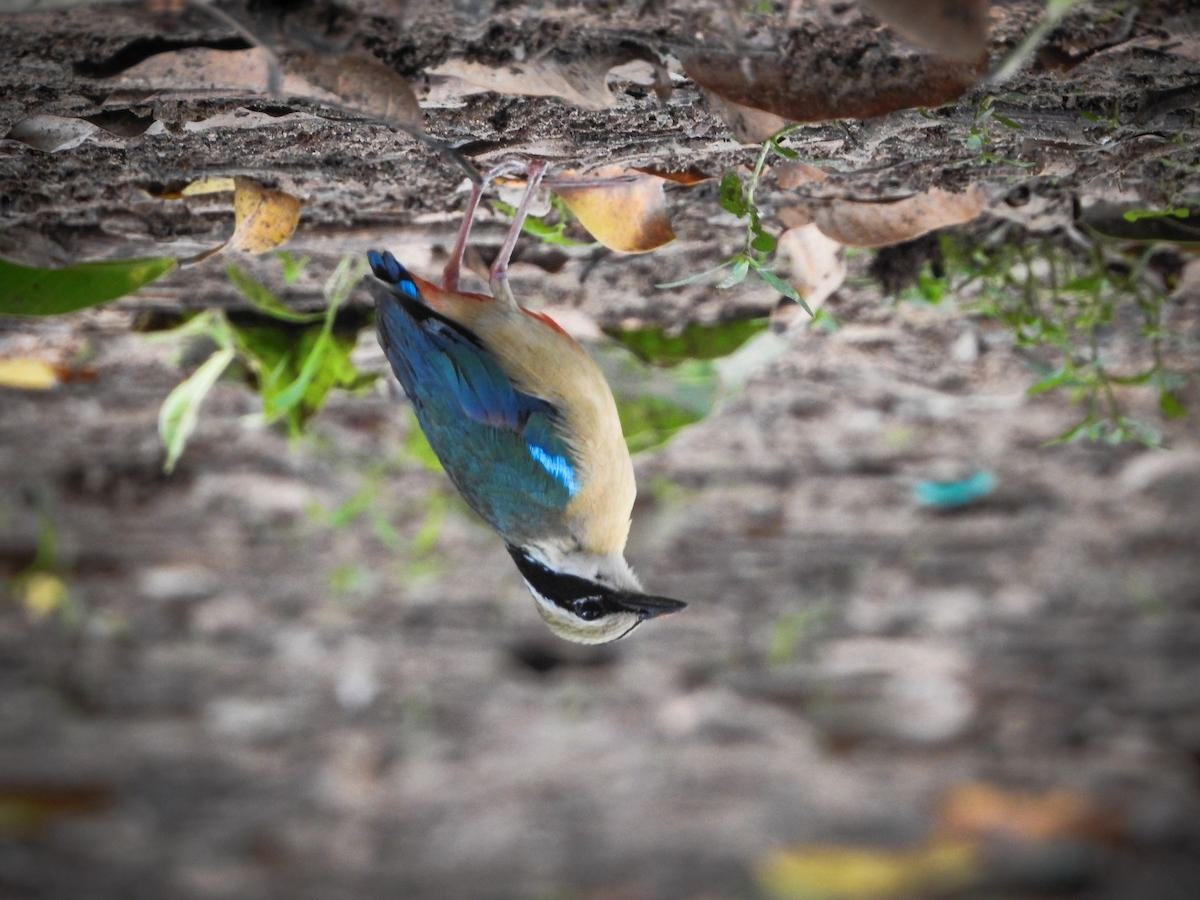pitta: (327, 176, 700, 657)
